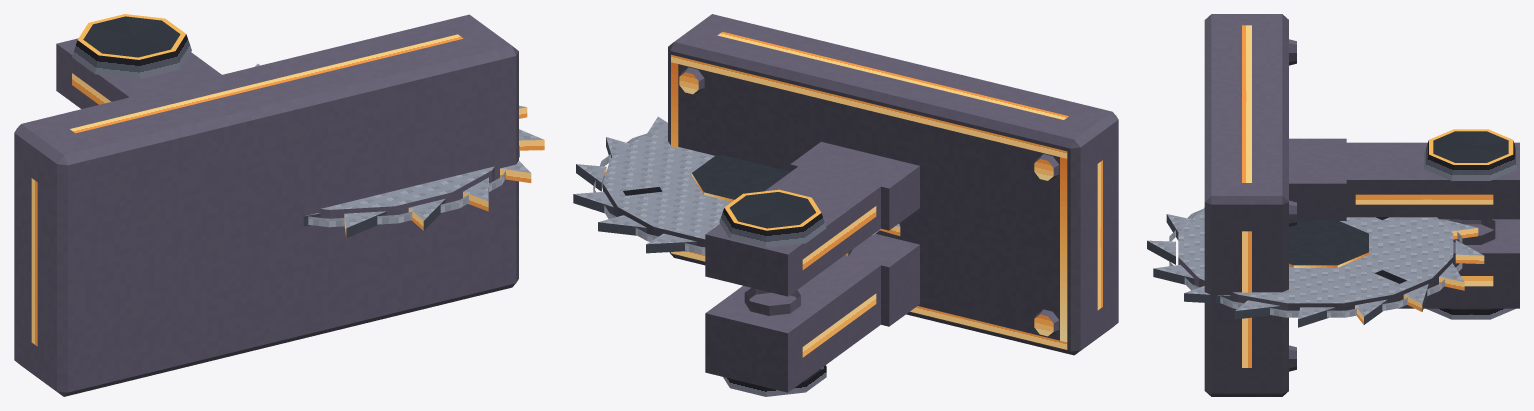
The model's file is marlit_saw.glb.
3 renders of one model, left to right at view 1: azimuth 30°, elevation 25°; view 2: azimuth 150°, elevation 25°; view 3: azimuth 270°, elevation 25°, orthographic. The views are drawn at different scales.
Visible parts, largest first — view 1: marlit_saw_body, marlit_saw_blade; view 2: marlit_saw_body, marlit_saw_blade; view 3: marlit_saw_body, marlit_saw_blade.
Part boxes in pixels (x1,y1,x2,y2): marlit_saw_body: (14, 14, 518, 396); marlit_saw_blade: (255, 64, 544, 238); marlit_saw_body: (668, 14, 1118, 396); marlit_saw_blade: (573, 116, 900, 256); marlit_saw_body: (1204, 14, 1519, 396); marlit_saw_blade: (1147, 207, 1484, 327).
Size of the model in its own units: 2.26 by 1.01 by 1.68.
1 material, 1 textured.
